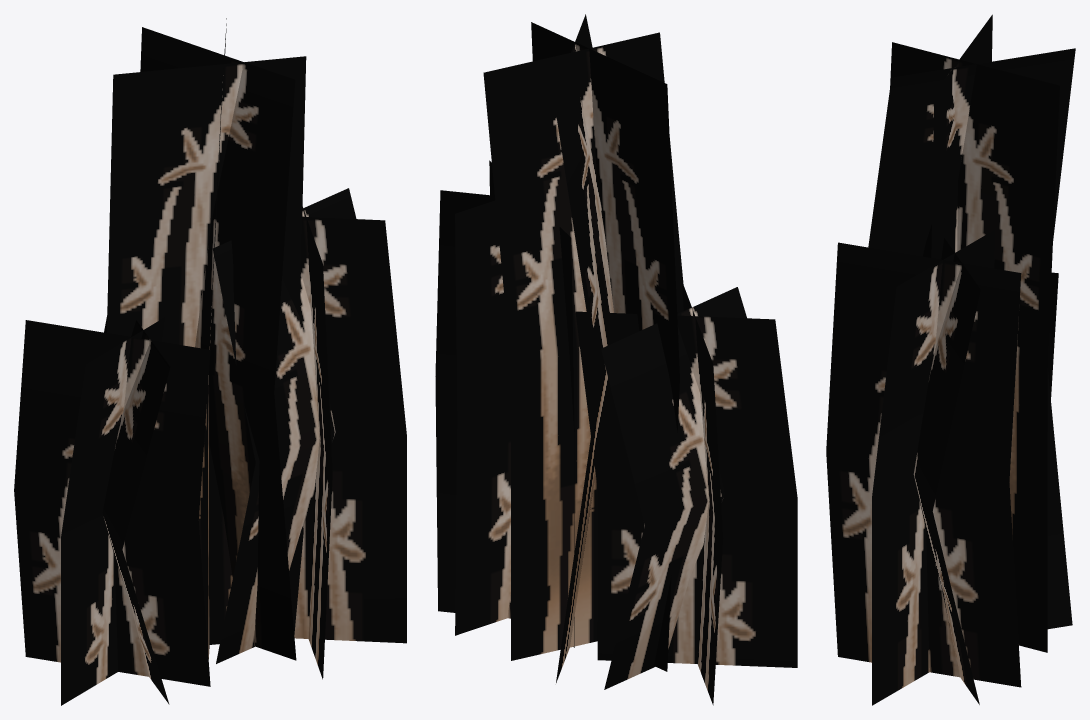
Rendered from Tropics Beach Grass Tall.fbx.
3 views of the same model, side by side, from view 1: azimuth 30°, elevation 25°; view 2: azimuth 150°, elevation 25°; view 3: azimuth 270°, elevation 25° (orthographic).
Parts seen in each view (by area): view 1: Beach Grass Tall; view 2: Beach Grass Tall; view 3: Beach Grass Tall.
Boxes of the visible parts, x1,y1,x2,y2 form: Beach Grass Tall: [14, 18, 406, 705]; Beach Grass Tall: [435, 14, 797, 705]; Beach Grass Tall: [826, 14, 1075, 705].
Size of the model in its own units: 400 by 636 by 249.
